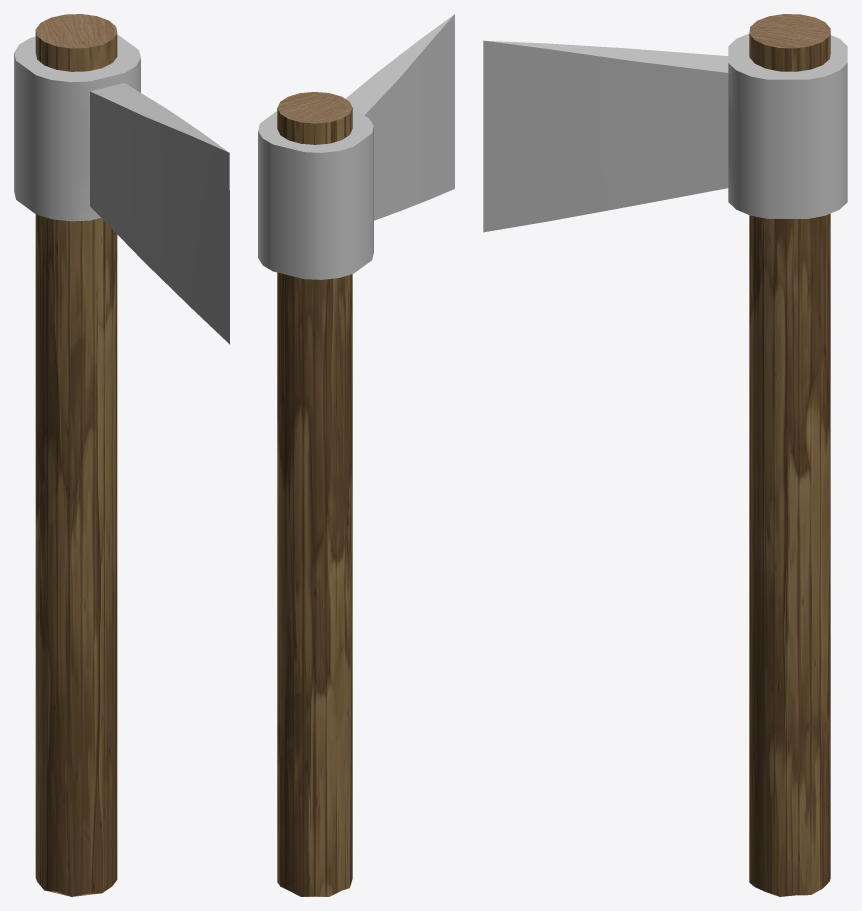
Rendered from IronAxe.fbx.
3 views of the same model, side by side, from view 1: azimuth 30°, elevation 25°; view 2: azimuth 150°, elevation 25°; view 3: azimuth 270°, elevation 25° (orthographic). The views are drawn at different scales.
Parts seen in each view (by area): view 1: Model; view 2: Model; view 3: Model.
Boxes of the visible parts, x1,y1,x2,y2 form: Model: (14,14,229,896); Model: (258,14,454,896); Model: (483,14,847,896).
Bounding box in the file's own units: 19.1 × 150 × 58.4.
